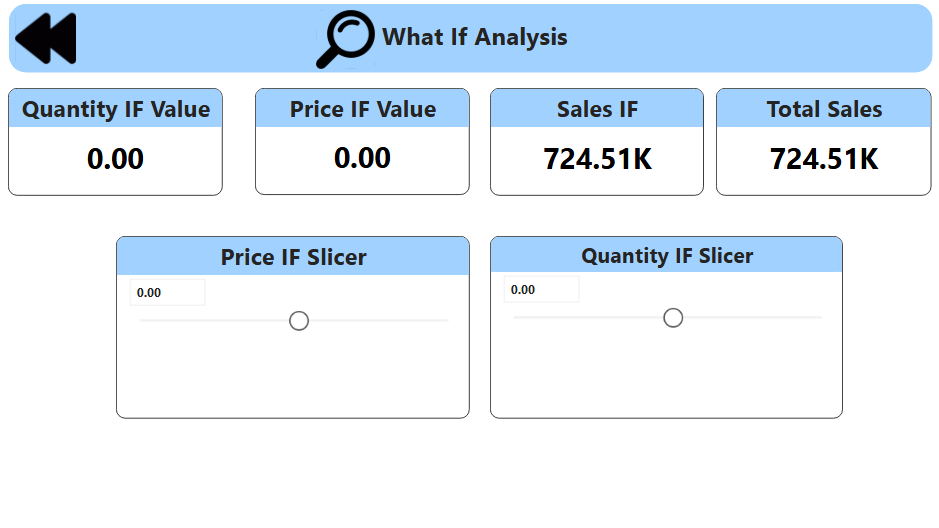

The page's visual inventory and layout, read from the dashboard file:
{"tool":"powerbi","page":{"name":"What If Analysis","canvas":[1280,720],"ordinal":3},"visuals":[{"type":"card","title":"Total Sales","fields":{"Values":["Sum(المخزون1.اجملي السعر)"]},"box":[975.4,129.5,282,141],"z":0},{"type":"card","title":"Sales IF","fields":{"Values":["Price-If.Sales-IF"]},"box":[679.8,129.5,280.3,141],"z":1000},{"type":"slicer","title":"Price IF Slicer","fields":{"Values":["Price-If.Price-If"]},"box":[189.6,323.9,462.7,238.8],"z":2000},{"type":"slicer","title":"Quantity IF Slicer","fields":{"Values":["QTY IF.QTY IF"]},"box":[679.1,323.9,462,238.8],"z":3000},{"type":"shape","box":[49.3,19.4,1209,89.6],"z":4000},{"type":"actionButton","title":"What If Analysis","box":[59.7,37.3,1198.5,61.2],"z":5000},{"type":"actionButton","box":[447.8,23.9,97,85.1],"z":6000},{"type":"card","title":"Quantity IF Value","fields":{"Values":["QTY IF.QTY Value Selected"]},"box":[49,129.6,280.8,141.1],"z":7000},{"type":"card","title":"Price IF Value","fields":{"Values":["Price-If.price Value Selected"]},"box":[371.6,129.9,280.6,140.3],"z":8000},{"type":"actionButton","box":[53.7,19.4,88.1,89.6],"z":9000}]}

Visuals, with their boxes in screenshot pixels (x1, y1, x2, y2), scaled from the page's 1280x720 canvas onto the 939x528 screenshot:
"Total Sales" card: pyautogui.locateOnScreen(716, 95, 922, 198)
"Sales IF" card: pyautogui.locateOnScreen(499, 95, 704, 198)
"Price IF Slicer" slicer: pyautogui.locateOnScreen(139, 238, 479, 413)
"Quantity IF Slicer" slicer: pyautogui.locateOnScreen(498, 238, 837, 413)
shape: pyautogui.locateOnScreen(36, 14, 923, 80)
"What If Analysis" actionButton: pyautogui.locateOnScreen(44, 27, 923, 72)
actionButton: pyautogui.locateOnScreen(329, 18, 400, 80)
"Quantity IF Value" card: pyautogui.locateOnScreen(36, 95, 242, 199)
"Price IF Value" card: pyautogui.locateOnScreen(273, 95, 478, 198)
actionButton: pyautogui.locateOnScreen(39, 14, 104, 80)
